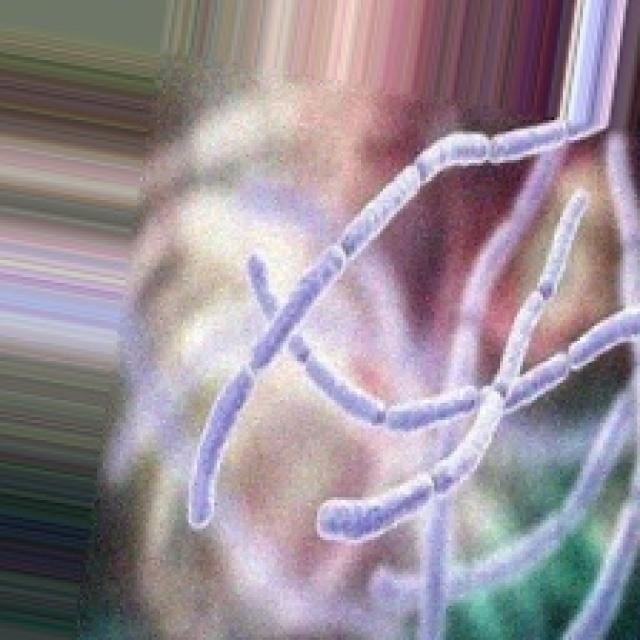Spiral_bacteria: (115, 42, 640, 640)
